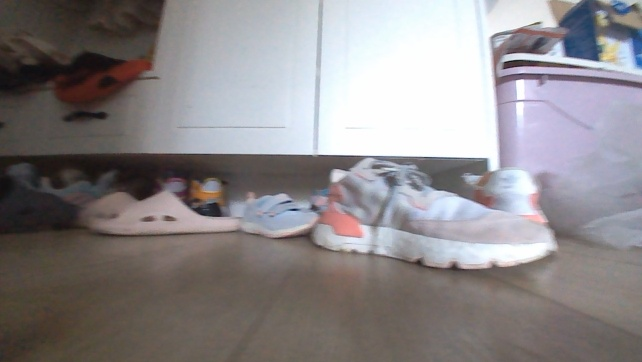shoe: (309, 157, 559, 271), (240, 187, 322, 237)
slipper: (90, 187, 241, 236)
